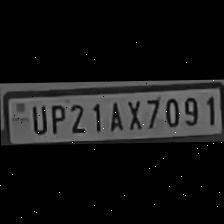0: (160, 95, 180, 127)
1: (86, 99, 106, 132), (200, 92, 218, 126)
2: (66, 100, 86, 134)
7: (140, 96, 160, 129)
9: (178, 94, 200, 125)
A: (104, 97, 124, 130)
P: (46, 100, 66, 134)
U: (27, 101, 47, 134)
X: (123, 97, 143, 130)
